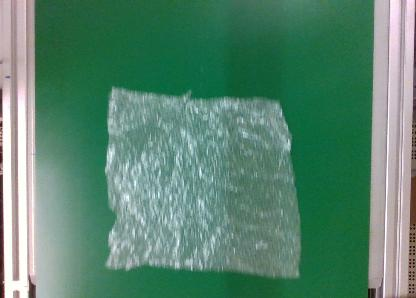Others: (105, 80, 303, 280)
